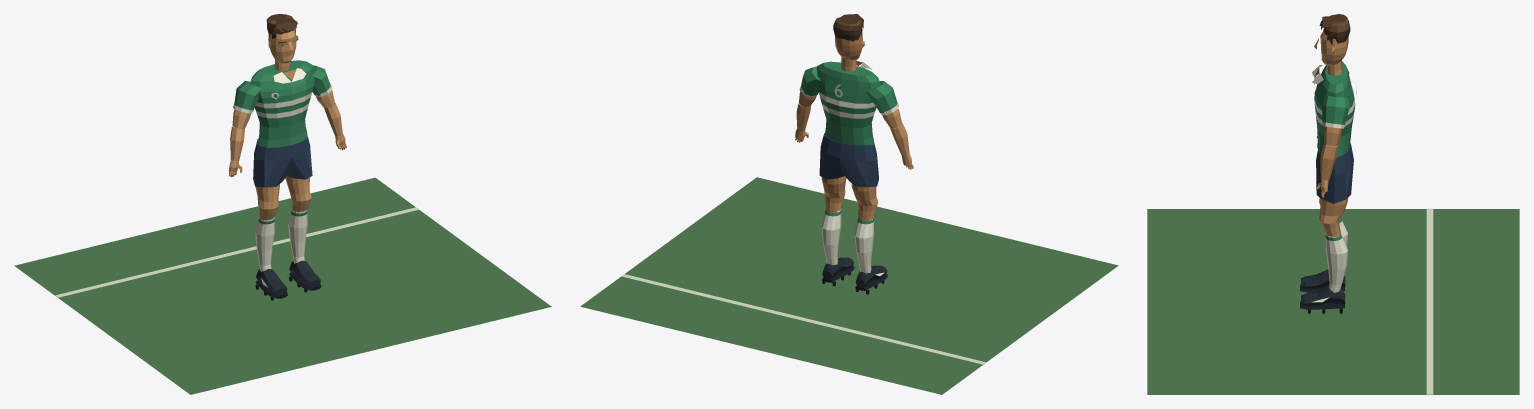
File: spieler.glb
The picture shows the model from 3 angles, left to right: view 1: azimuth 30°, elevation 25°; view 2: azimuth 150°, elevation 25°; view 3: azimuth 270°, elevation 25°; orthographic projection. The views are drawn at different scales.
Parts seen in each view (by area): view 1: Rasen, Trikot_Rumpf, Shorts_Stoff, Feldlinie, Stutzen_Rechts, Stutzen_Links, Bein_Haut_Rechts, Bein_Haut_Links, Kopf_Gesichtsplanes, Trikot_Aermel_Links, Schuh_Rechts, Schuh_Links; view 2: Rasen, Trikot_Rumpf, Shorts_Stoff, Feldlinie, Stutzen_Rechts, Stutzen_Links, Bein_Haut_Rechts, Bein_Haut_Links, Trikot_Aermel_Links, Frisur_Seitenschnitt_Tolle, Kopf_Gesichtsplanes; view 3: Rasen, Trikot_Rumpf, Feldlinie, Shorts_Stoff, Stutzen_Rechts, Bein_Haut_Rechts, Trikot_Aermel_Rechts, Kopf_Gesichtsplanes, Schuh_Rechts, Frisur_Seitenschnitt_Tolle, Unterarm_Rechts, Schuh_Links.
Boxes of the visible parts, x1,y1,x2,y2 form: Rasen: [14, 177, 551, 394]; Trikot_Rumpf: [250, 60, 314, 147]; Shorts_Stoff: [253, 135, 312, 187]; Feldlinie: [55, 207, 418, 297]; Stutzen_Rechts: [288, 209, 307, 263]; Stutzen_Links: [255, 217, 274, 272]; Bein_Haut_Rechts: [285, 176, 311, 211]; Bein_Haut_Links: [255, 184, 279, 220]; Kopf_Gesichtsplanes: [268, 29, 296, 63]; Trikot_Aermel_Links: [234, 81, 262, 111]; Schuh_Rechts: [289, 260, 320, 287]; Schuh_Links: [256, 269, 287, 295]; Rasen: [580, 177, 1118, 394]; Trikot_Rumpf: [816, 61, 880, 145]; Shorts_Stoff: [819, 133, 878, 187]; Feldlinie: [621, 274, 985, 364]; Stutzen_Rechts: [821, 208, 841, 264]; Stutzen_Links: [854, 216, 874, 273]; Bein_Haut_Rechts: [821, 176, 846, 213]; Bein_Haut_Links: [851, 183, 878, 221]; Trikot_Aermel_Links: [866, 81, 897, 112]; Frisur_Seitenschnitt_Tolle: [833, 16, 862, 41]; Kopf_Gesichtsplanes: [835, 33, 862, 59]; Rasen: [1147, 209, 1519, 394]; Trikot_Rumpf: [1314, 61, 1355, 157]; Feldlinie: [1426, 208, 1433, 394]; Shorts_Stoff: [1316, 143, 1353, 203]; Stutzen_Rechts: [1325, 233, 1347, 292]; Bein_Haut_Rechts: [1319, 198, 1348, 236]; Trikot_Aermel_Rechts: [1322, 95, 1349, 124]; Kopf_Gesichtsplanes: [1320, 31, 1348, 65]; Schuh_Rechts: [1301, 286, 1345, 305]; Frisur_Seitenschnitt_Tolle: [1323, 14, 1350, 43]; Unterarm_Rechts: [1320, 144, 1337, 180]; Schuh_Links: [1301, 269, 1345, 288].
Bounding box in the file's own units: 2.6 × 1.85 × 2.2.
